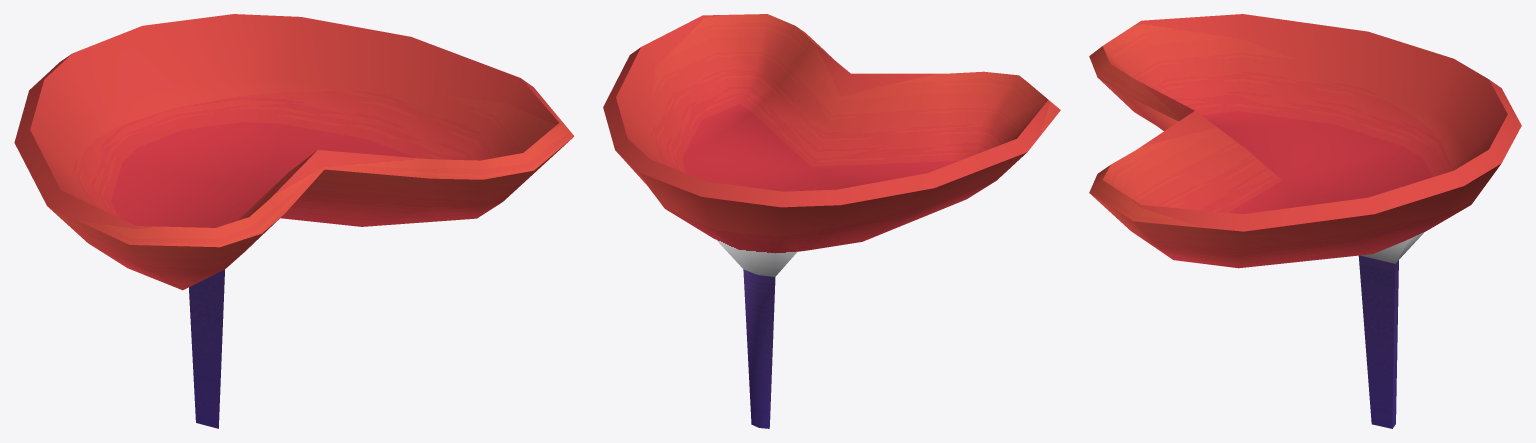
Rendered from D_CoralReef.177.glb.
3 views of the same model, side by side, from view 1: azimuth 30°, elevation 25°; view 2: azimuth 150°, elevation 25°; view 3: azimuth 270°, elevation 25° (orthographic). The views are drawn at different scales.
Parts seen in each view (by area): view 1: D_CoralReef.177; view 2: D_CoralReef.177; view 3: D_CoralReef.177.
Part boxes in pixels (x1,y1,x2,y2): D_CoralReef.177: (14, 14, 574, 428); D_CoralReef.177: (603, 14, 1060, 428); D_CoralReef.177: (1089, 14, 1521, 428).
Size of the model in its own units: 0.5007 by 0.3454 by 0.4319.
1 material, 1 textured.
